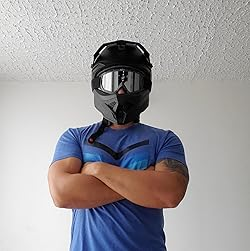helmets: (77, 35, 159, 132)
